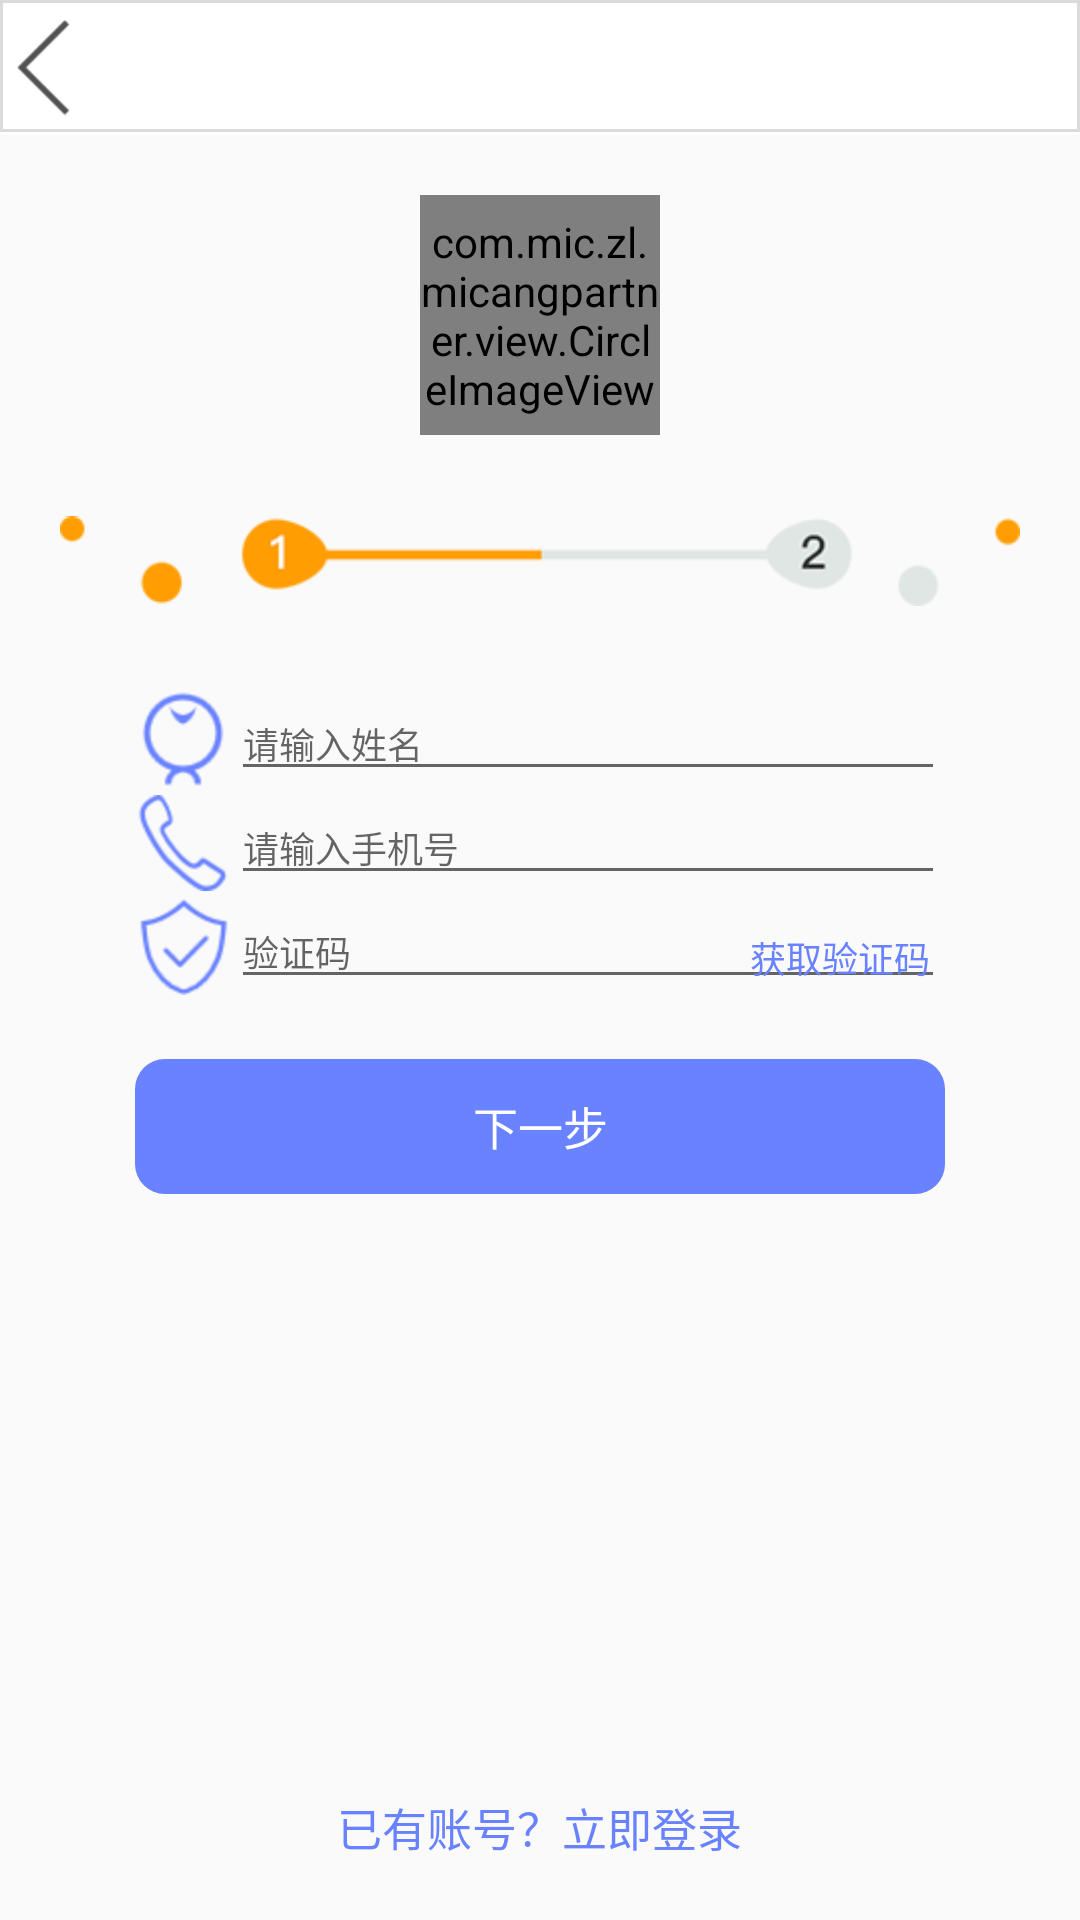

Icons on this 1080×1920 Android screen, each with the point to tap as [x,y]:
back: [78,66]
phone: [182,843]
user: [183,739]
